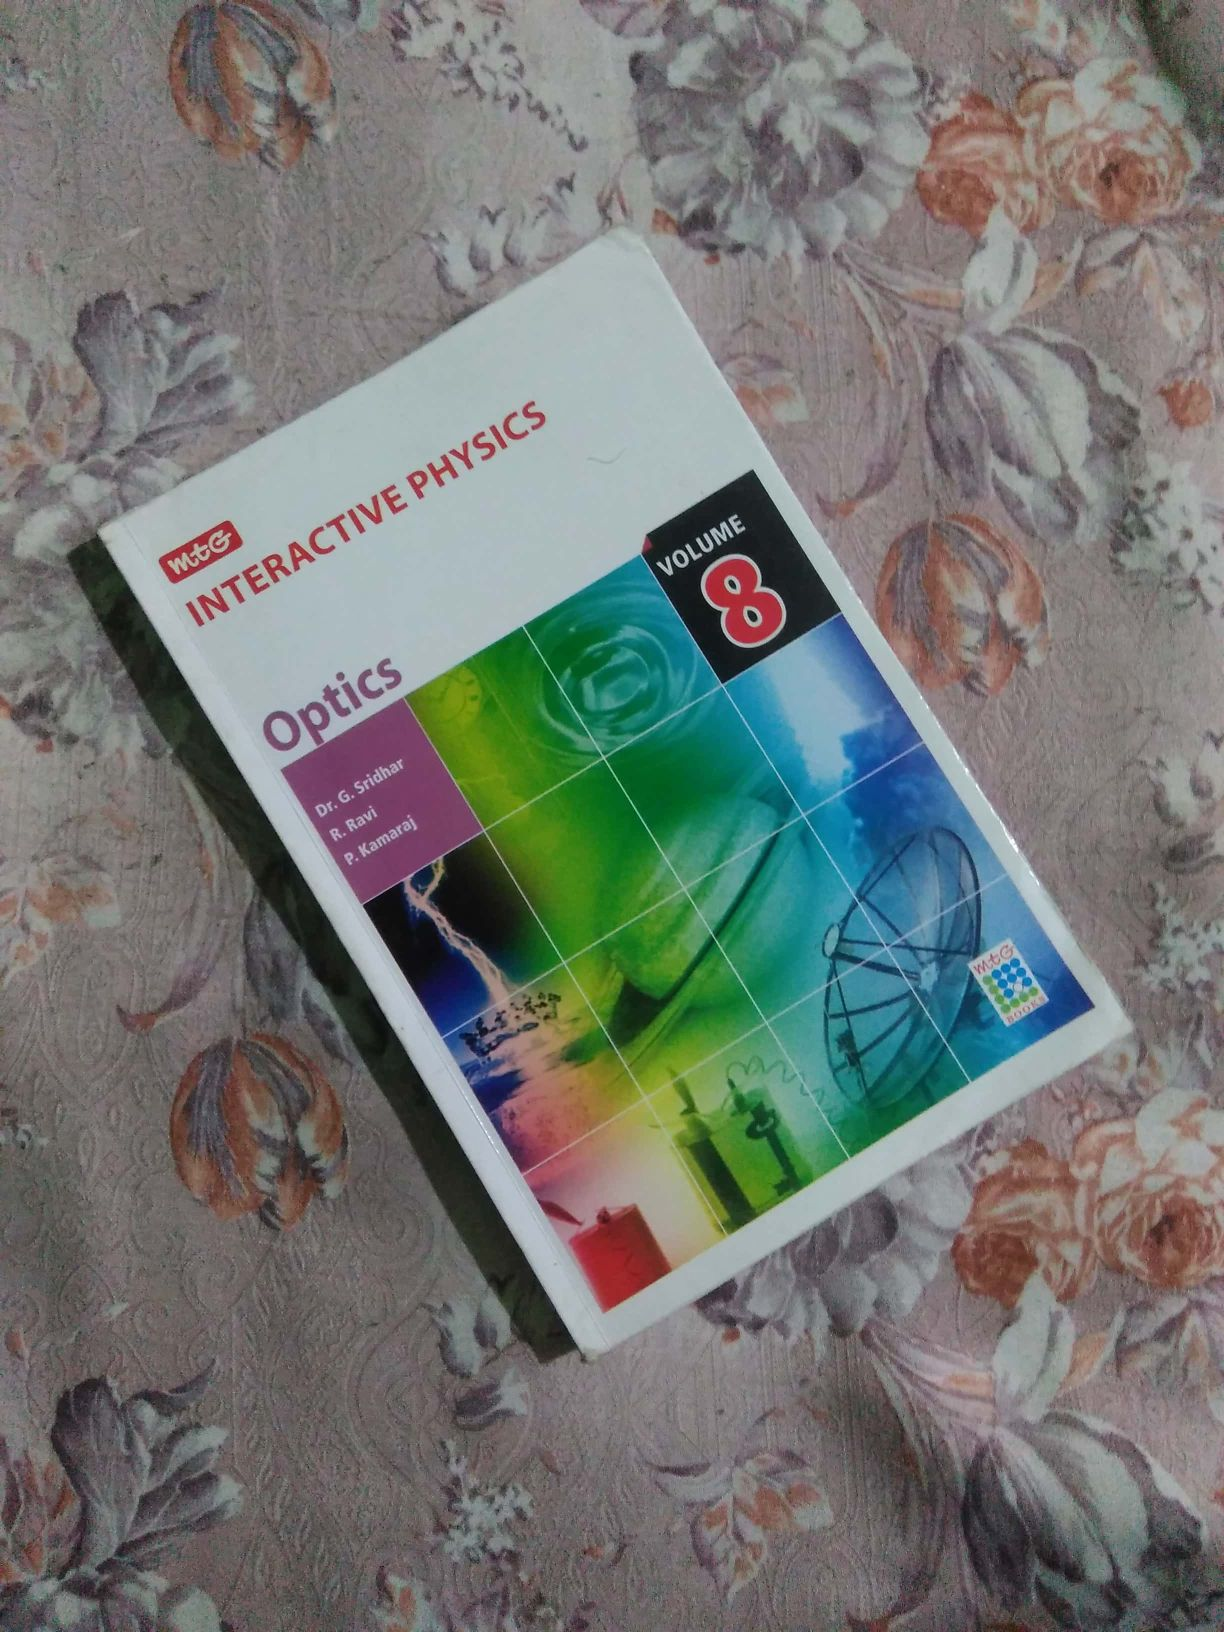optics: (90, 266, 1156, 1360)
